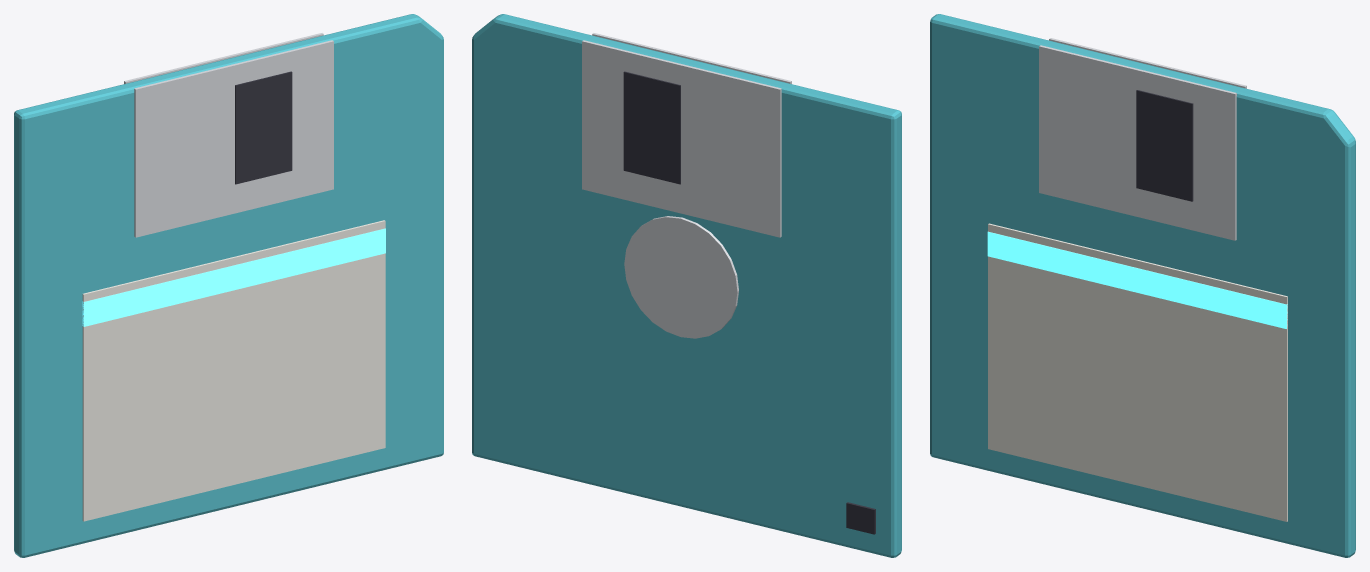
The model's file is floppy_teal.glb.
3 renders of one model, left to right at view 1: azimuth 30°, elevation 25°; view 2: azimuth 150°, elevation 25°; view 3: azimuth 330°, elevation 25°, orthographic.
Visible parts, largest first — view 1: floppy_teal; view 2: floppy_teal; view 3: floppy_teal.
Boxes of the visible parts, x1,y1,x2,y2 form: floppy_teal: (14, 14, 443, 557); floppy_teal: (472, 14, 901, 557); floppy_teal: (930, 14, 1355, 557).
Size of the model in its own units: 0.9 by 0.9 by 0.049.
